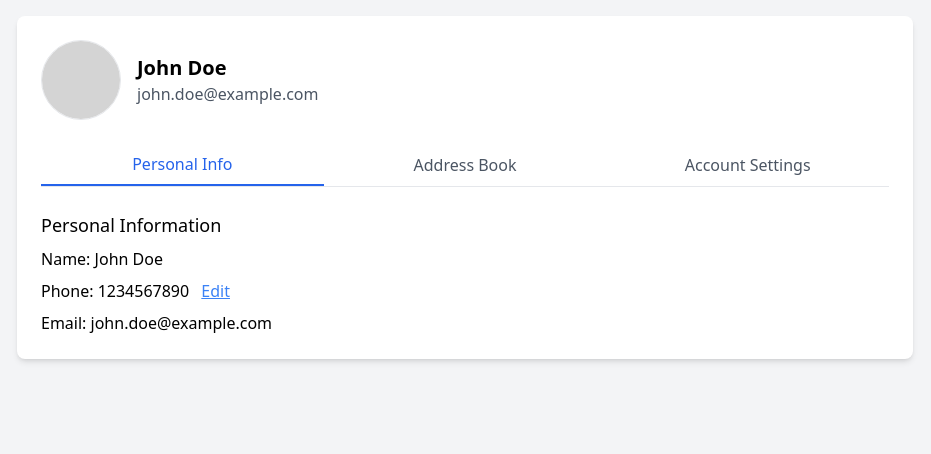
Test: should handle adding new address
The image size is (931, 454).
Click the button "Address Book".
click(465, 165)  # box x1=324 y1=144 x2=606 y2=186
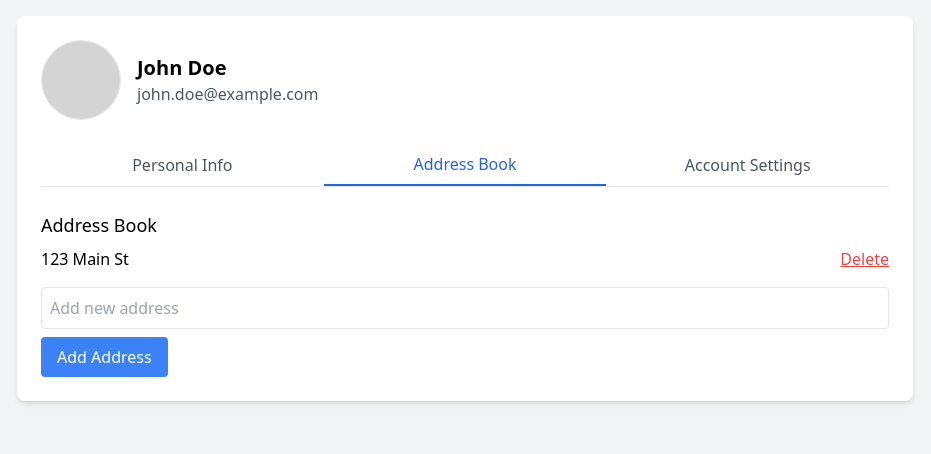
Type "456 New St" into the field with placeholder "Add new address".
click(465, 308); type("456 New St")  # box x1=41 y1=287 x2=889 y2=329
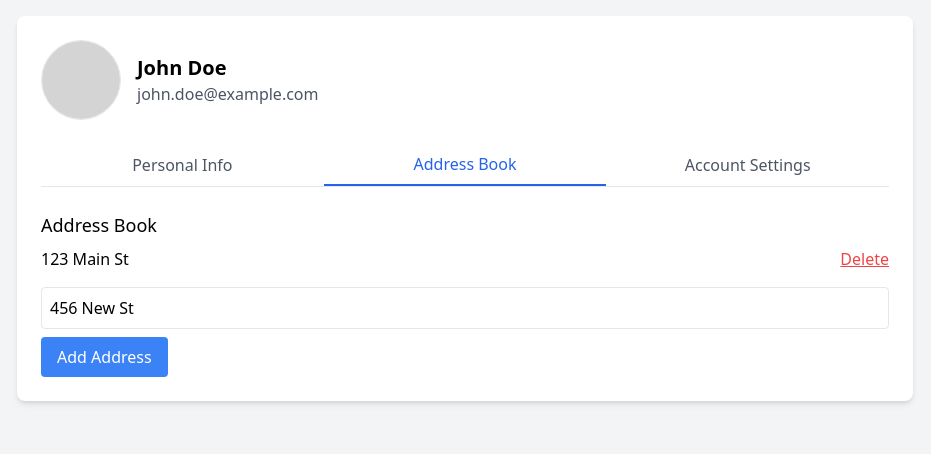
Click the button "Add Address".
click(104, 357)  # box x1=41 y1=337 x2=168 y2=377
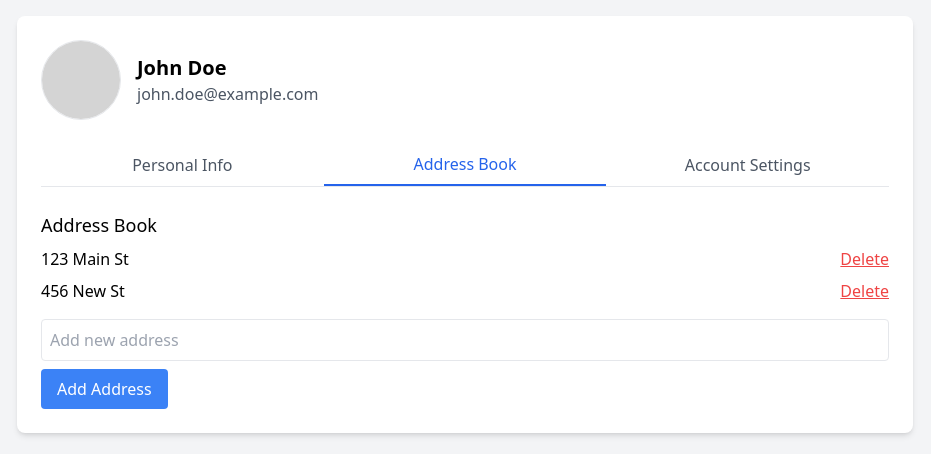
Now the list item "456 New St" is shown, box x1=41 y1=280 x2=125 y2=302
